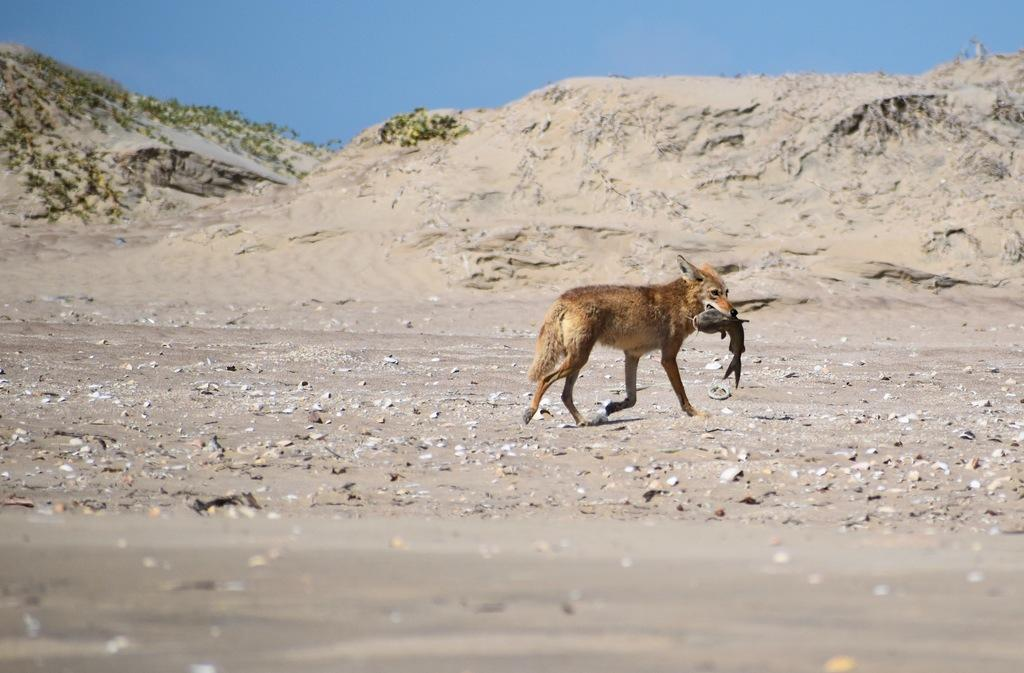Coyote: (523, 251, 739, 429)
